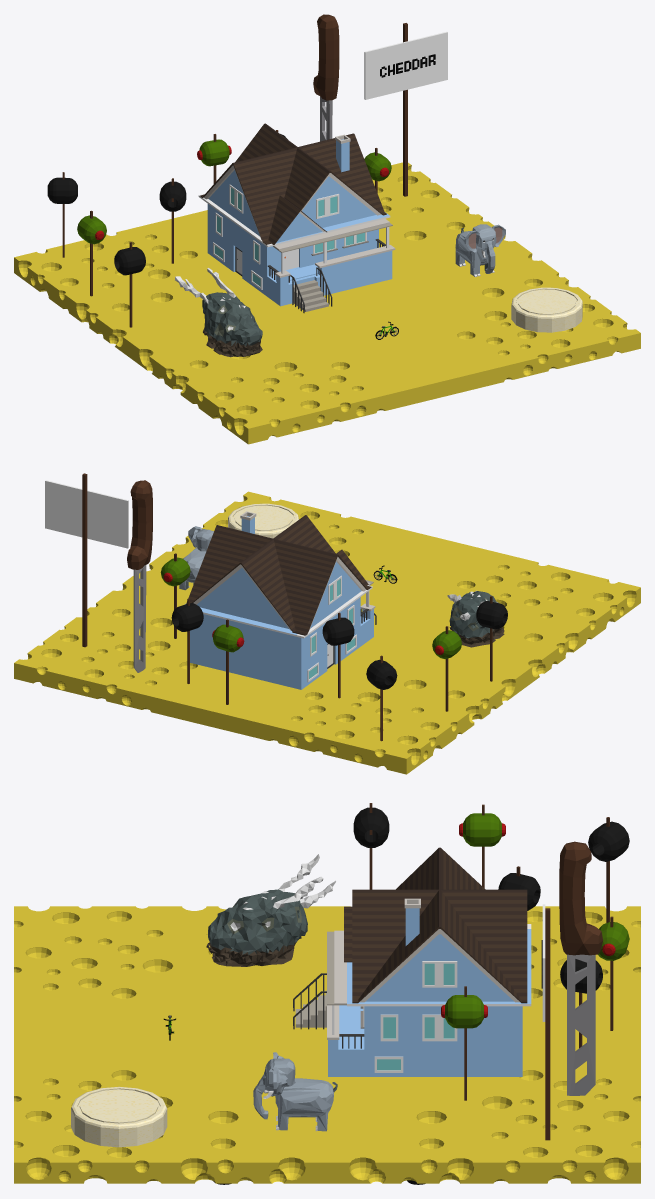
3 renders of one model, top to bottom at view 1: azimuth 30°, elevation 25°; view 2: azimuth 150°, elevation 25°; view 3: azimuth 270°, elevation 25°, orthographic. The views are drawn at different scales.
Visible parts, largest first — view 1: Cube.022, Cube.1594, Cube.023, OBJRANDOM_METEORITE, Cylinder.016, Cube.024, ANIMAL_ELEFANTE, Sphere.017, Sphere.016, Sphere.020, Sphere.018, Sphere.022 (+1 smaller); view 2: Cube.022, Cube.1594, Cube.023, Cube.024, OBJRANDOM_METEORITE, Cylinder.016, ANIMAL_ELEFANTE, Sphere.017, Sphere.020, Sphere.021, Sphere.016, Sphere.018 (+2 smaller); view 3: Cube.022, Cube.1594, OBJRANDOM_METEORITE, Cube.024, Cylinder.016, ANIMAL_ELEFANTE, Cube.023, Sphere.019, Sphere.016, Sphere.018, Sphere.017, Sphere.022 (+2 smaller).
Part boxes in pixels (x1,y1,x2,y2): Cube.022: [14, 162, 640, 444]; Cube.1594: [198, 123, 395, 313]; Cube.023: [364, 23, 447, 196]; OBJRANDOM_METEORITE: [175, 268, 262, 357]; Cylinder.016: [511, 287, 582, 332]; Cube.024: [313, 14, 339, 141]; ANIMAL_ELEFANTE: [455, 224, 505, 276]; Sphere.017: [114, 242, 145, 327]; Sphere.016: [47, 172, 77, 257]; Sphere.020: [159, 178, 186, 263]; Sphere.018: [77, 210, 106, 296]; Sphere.022: [197, 134, 231, 183]; Cube.022: [14, 491, 640, 774]; Cube.1594: [185, 511, 376, 689]; Cube.023: [45, 473, 128, 647]; Cube.024: [127, 480, 152, 672]; OBJRANDOM_METEORITE: [447, 590, 504, 647]; Cylinder.016: [228, 503, 298, 538]; ANIMAL_ELEFANTE: [179, 526, 213, 590]; Sphere.017: [476, 596, 507, 681]; Sphere.020: [322, 612, 354, 698]; Sphere.021: [171, 598, 203, 683]; Sphere.016: [366, 655, 397, 741]; Sphere.018: [432, 626, 461, 711]; Cube.022: [14, 906, 640, 1183]; Cube.1594: [293, 847, 531, 1076]; OBJRANDOM_METEORITE: [206, 854, 335, 966]; Cube.024: [559, 841, 602, 1095]; Cylinder.016: [71, 1086, 167, 1147]; ANIMAL_ELEFANTE: [253, 1052, 337, 1131]; Cube.023: [541, 904, 550, 1140]; Sphere.019: [441, 986, 487, 1100]; Sphere.016: [588, 817, 629, 922]; Sphere.018: [459, 804, 505, 887]; Sphere.017: [353, 803, 389, 889]; Sphere.022: [598, 916, 629, 1030].
Size of the model in its own units: 3917 by 1985 by 4000.
Materials: 39 (3 with a texture image).
